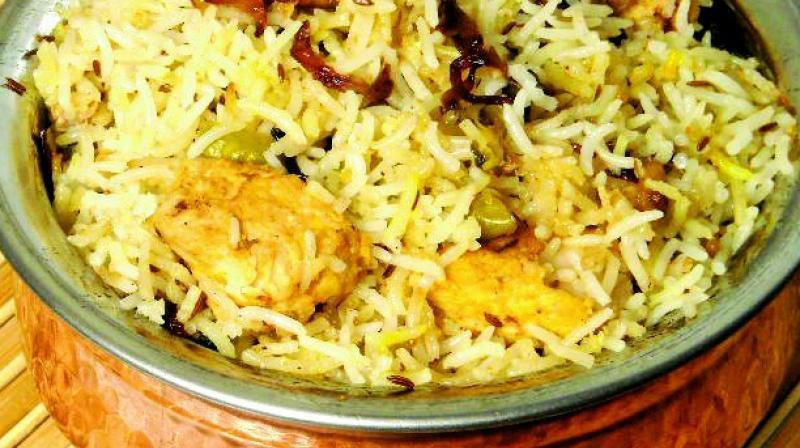Biryani: (28, 0, 800, 389)
